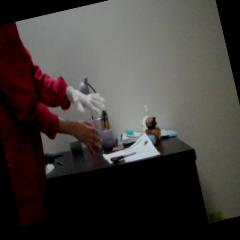gloved: (69, 80, 108, 122)
not-gloved: (68, 114, 104, 160)
